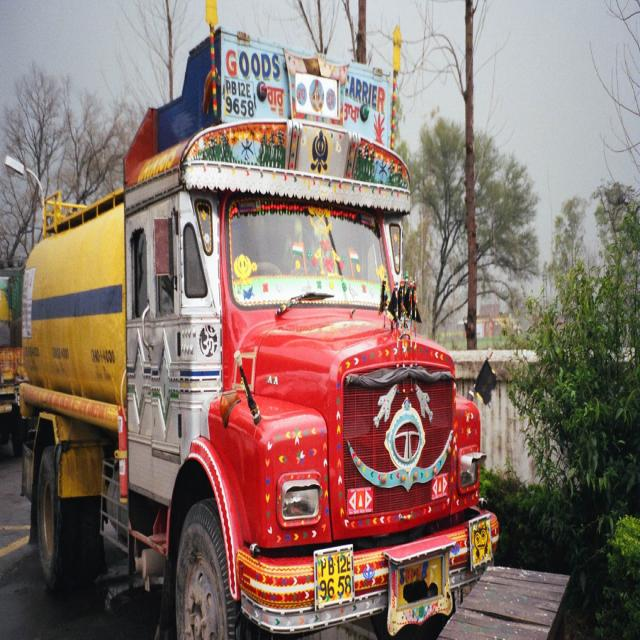Truck: (20, 55, 498, 640)
